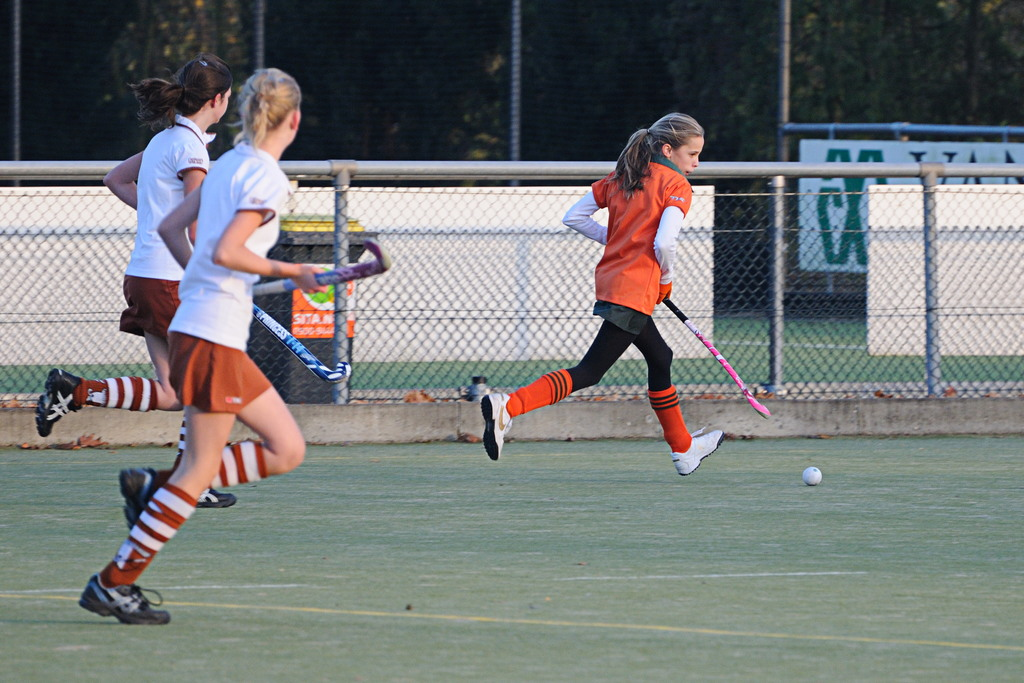Person: (481, 111, 724, 476)
